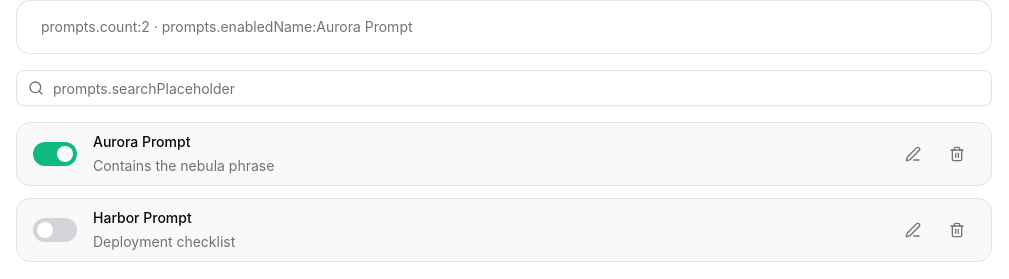
PromptPanel › clears the query and restores all prompts
This screenshot has width=1009, height=279.
Check: the switch next to "Contains the nebula phrase" is enabled, box [33,142,77,166]
In the field named "prompts.searchAriaLabel": (504, 88) [16,70,992,106], type "aurora"
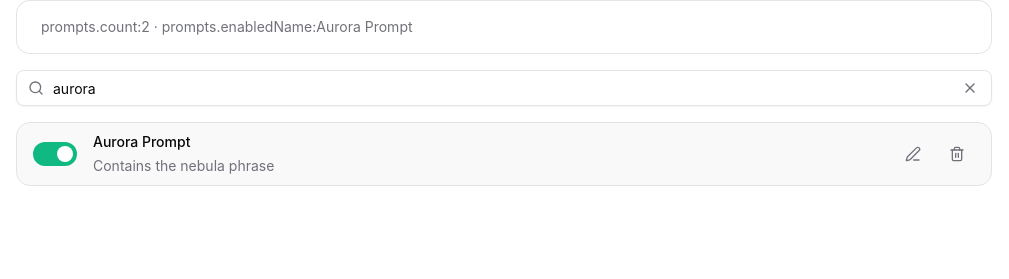
Check: the heading "Harbor Prompt" is gone
Click the button named "common.clear": (970, 88) [956,74,984,102]
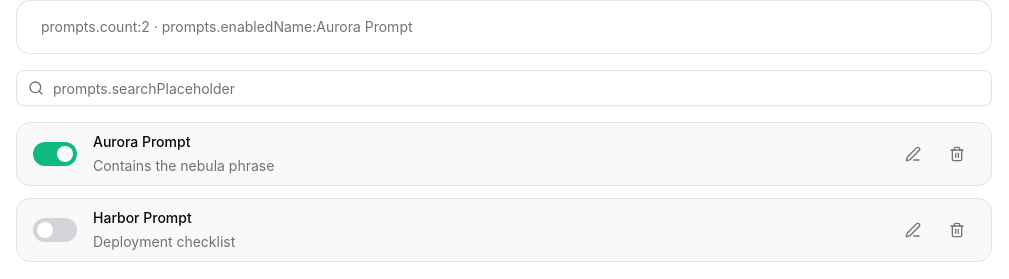
Check: the heading "Aurora Prompt" is shown, box [93,133,190,150]
Check: the field named "prompts.searchAriaLabel" is empty, box [16,70,992,106]
Check: the heading "Harbor Prompt" is shown, box [93,209,192,226]
